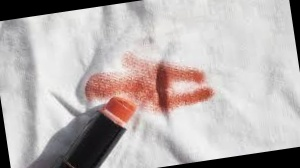lipstick: (78, 50, 219, 124)
